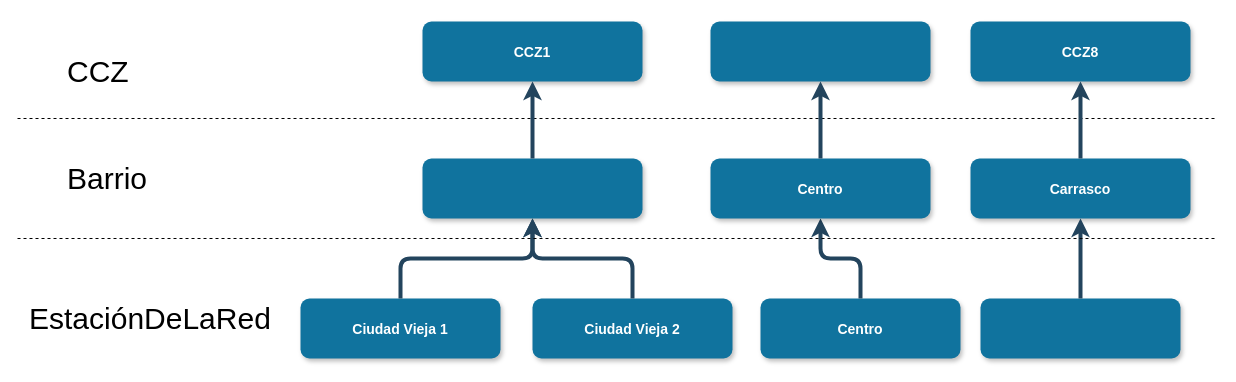
This 1236x382 diagram has some shape labels left out. The shapes that lost their labels are listed below. From the top down, each one's centre as x and y in pixels, then its label:
the point at 821,52: CCZ2
the point at 533,189: Ciudad Vieja
the point at 1081,329: Portones de Carrasco 2
